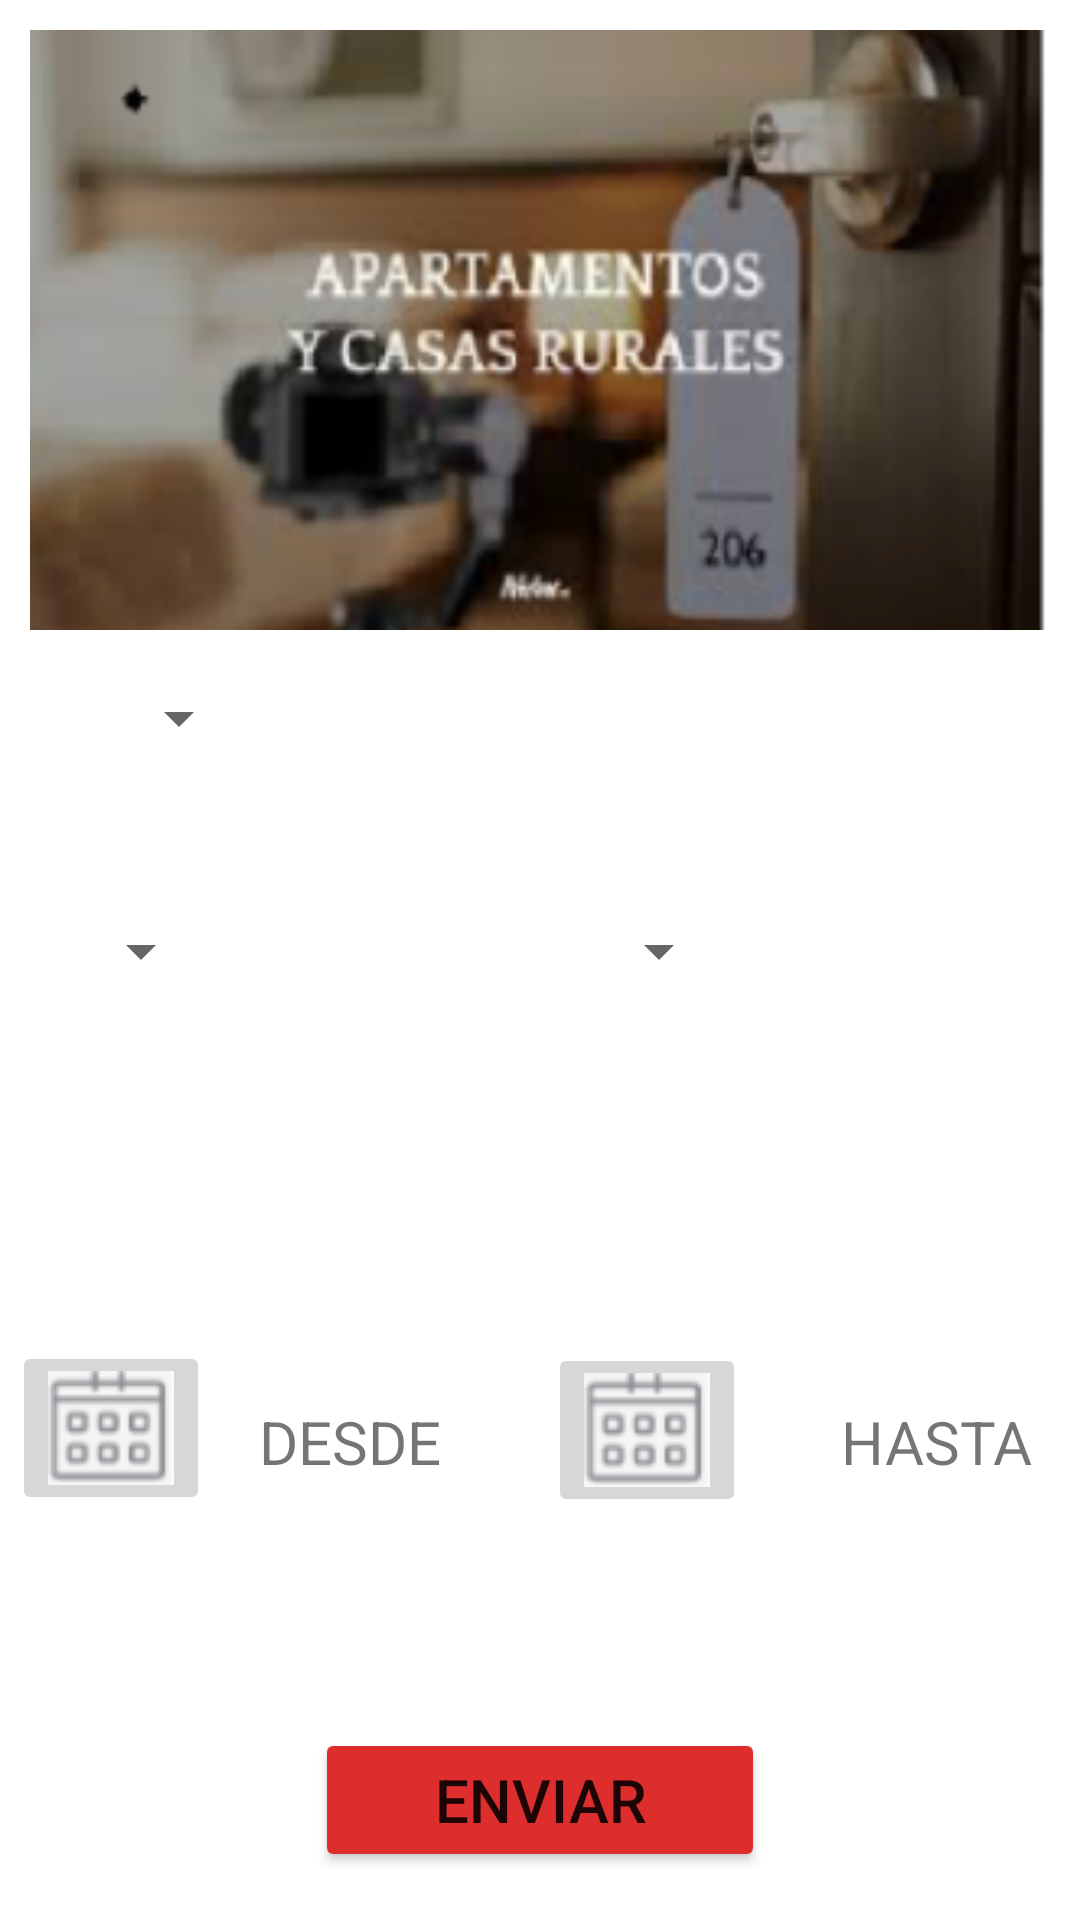

Named icons in this screenshot (1080x1920) and their bounding boxes, region(x1, y1, x2, y2):
cal: region(24, 1359, 198, 1497), region(560, 1361, 734, 1499)
